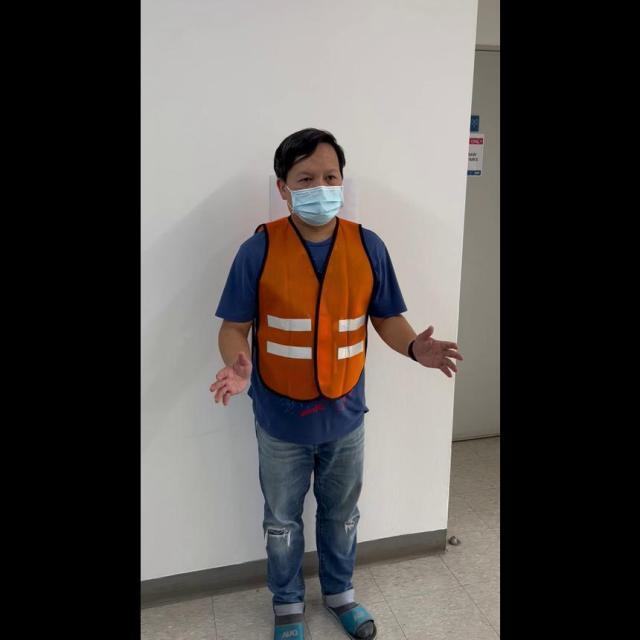bare_hand: (409, 319, 463, 379), (207, 348, 253, 408)
